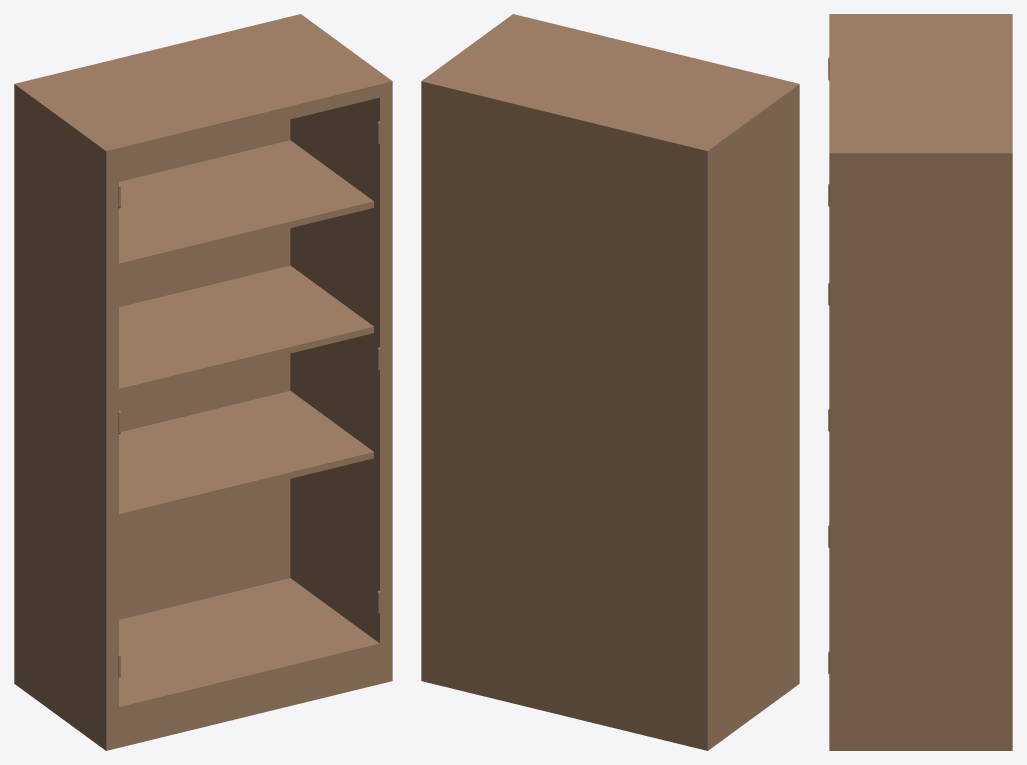
File: Armario Abierto 1.fbx
3 views of the same model, side by side, from view 1: azimuth 30°, elevation 25°; view 2: azimuth 150°, elevation 25°; view 3: azimuth 270°, elevation 25° (orthographic).
Parts seen in each view (by area): view 1: Armario_Abierto_1; view 2: Armario_Abierto_1; view 3: Armario_Abierto_1.
Boxes of the visible parts, left/top/right/bottom form: Armario_Abierto_1: left=14, top=14, right=392, bottom=750; Armario_Abierto_1: left=421, top=14, right=799, bottom=750; Armario_Abierto_1: left=828, top=14, right=1012, bottom=750.
Bounding box in the file's own units: 0.9 × 1.8 × 0.5032.
